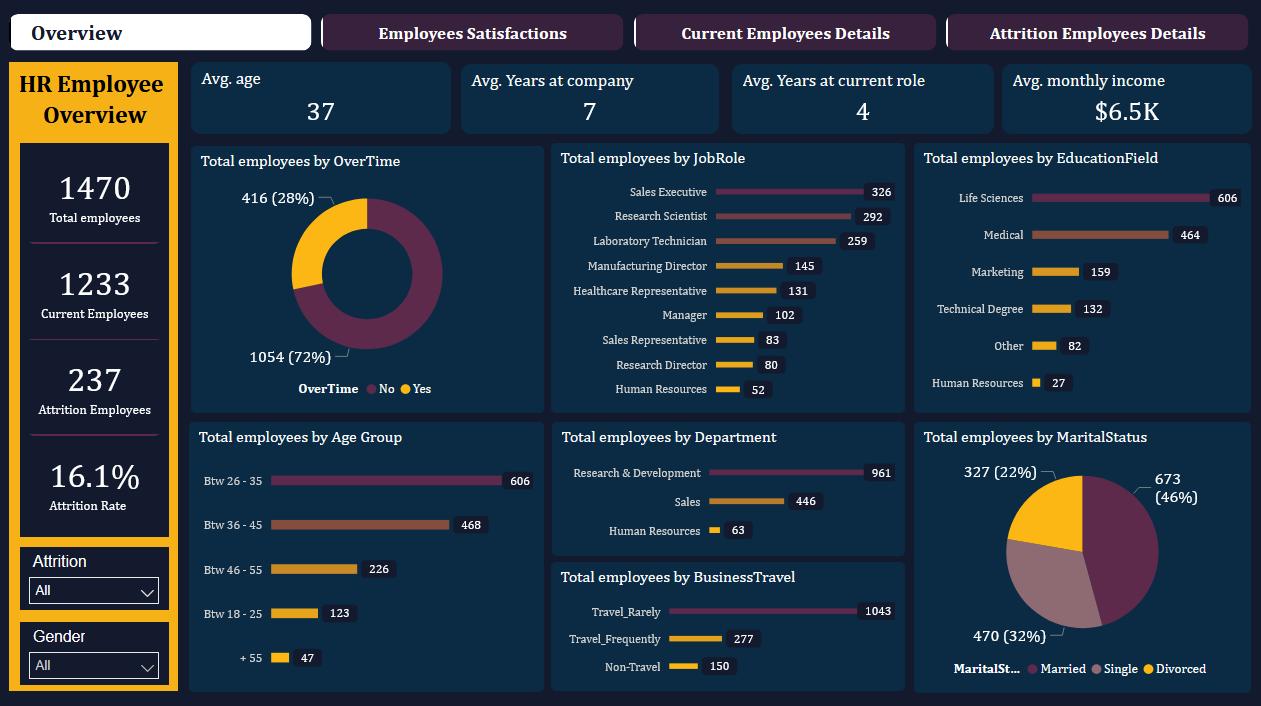

The dashboard page shown, as its layout file describes it:
{"tool":"powerbi","page":{"name":"Overview","canvas":[1280,720],"ordinal":0},"visuals":[{"type":"shape","box":[12.5,63.8,171.2,636.2],"z":0},{"type":"pageNavigator","box":[12.5,15,1256.2,37.5],"z":1000},{"type":"textbox","box":[12.5,65,171.2,41.2],"z":2000},{"type":"textbox","box":[22.2,96.7,151.1,48.9],"z":3000},{"type":"card","title":"Avg. age","fields":{"Values":["_Measures.Avg. age"]},"box":[195,63.8,263.8,72.5],"z":4000},{"type":"card","title":"Avg. Years at company","fields":{"Values":["_Measures.Avg. Years at company"]},"box":[468.8,65,261.2,71.2],"z":5000},{"type":"card","title":"Avg. monthly income","fields":{"Values":["_Measures.Avg. monthly income"]},"box":[1016.2,65,252.5,71.2],"z":6000},{"type":"card","title":"Avg. Years at current role","fields":{"Values":["_Measures.Avg. Years at current role"]},"box":[742.5,65,265,71.2],"z":7000},{"type":"slicer","fields":{"Values":["HR-Employee-Attrition.Gender"]},"box":[22.5,628.8,151.2,63.8],"z":8000},{"type":"barChart","fields":{"Category":["HR-Employee-Attrition.EducationField"],"Y":["_Measures.Total emplyees"]},"box":[927.1,145.7,341.4,272.9],"z":9000},{"type":"barChart","fields":{"Category":["HR-Employee-Attrition.JobRole"],"Y":["_Measures.Total emplyees"]},"box":[560,145.6,358.6,272.9],"z":10000},{"type":"barChart","fields":{"Category":["HR-Employee-Attrition.Department"],"Y":["_Measures.Total employees"]},"box":[561.4,427.1,357.1,135.7],"z":11000},{"type":"barChart","fields":{"Category":["HR-Employee-Attrition.Age Group"],"Y":["_Measures.Total emplyees"]},"box":[194.3,427,358.6,272.9],"z":12000},{"type":"barChart","fields":{"Category":["HR-Employee-Attrition.BusinessTravel"],"Y":["_Measures.Total emplyees"]},"box":[560,568.6,358.6,131.4],"z":13000},{"type":"donutChart","fields":{"Y":["_Measures.Total emplyees"],"Category":["HR-Employee-Attrition.OverTime"]},"box":[195.7,148.6,357.1,270],"z":14000},{"type":"pieChart","fields":{"Y":["_Measures.Total emplyees"],"Category":["HR-Employee-Attrition.MaritalStatus"]},"box":[927.1,427.1,341.4,274.3],"z":15000},{"type":"slicer","fields":{"Values":["HR-Employee-Attrition.Attrition"]},"box":[22.2,553.3,151.1,64.4],"z":16000},{"type":"cardVisual","fields":{"Data":["_Measures.Total employees","_Measures.Current Employees","_Measures.Attrition Employees","_Measures.Attrition Rate"]},"box":[22.2,145.6,151.1,398.9],"z":17000}]}

Visuals, with their boxes in screenshot pixels (x1, y1, x2, y2), scaled from the page's 1280x720 canvas onto the 1261x706 screenshot:
shape: Rect(12, 63, 181, 686)
pageNavigator: Rect(12, 15, 1250, 51)
textbox: Rect(12, 64, 181, 104)
textbox: Rect(22, 95, 171, 143)
"Avg. age" card: Rect(192, 63, 452, 134)
"Avg. Years at company" card: Rect(462, 64, 719, 134)
"Avg. monthly income" card: Rect(1001, 64, 1250, 134)
"Avg. Years at current role" card: Rect(731, 64, 993, 134)
slicer - HR-Employee-Attrition.Gender: Rect(22, 617, 171, 679)
barChart - HR-Employee-Attrition.EducationField x _Measures.Total emplyees: Rect(913, 143, 1250, 410)
barChart - HR-Employee-Attrition.JobRole x _Measures.Total emplyees: Rect(552, 143, 905, 410)
barChart - HR-Employee-Attrition.Department x _Measures.Total employees: Rect(553, 419, 905, 552)
barChart - HR-Employee-Attrition.Age Group x _Measures.Total emplyees: Rect(191, 419, 545, 686)
barChart - HR-Employee-Attrition.BusinessTravel x _Measures.Total emplyees: Rect(552, 558, 905, 686)
donutChart - _Measures.Total emplyees x HR-Employee-Attrition.OverTime: Rect(193, 146, 545, 410)
pieChart - _Measures.Total emplyees x HR-Employee-Attrition.MaritalStatus: Rect(913, 419, 1250, 688)
slicer - HR-Employee-Attrition.Attrition: Rect(22, 543, 171, 606)
cardVisual - _Measures.Total employees x _Measures.Current Employees: Rect(22, 143, 171, 534)
